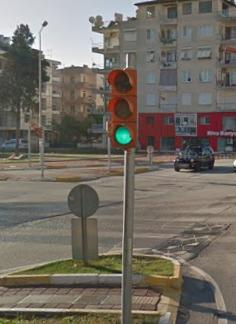greenlight: (106, 66, 140, 152)
